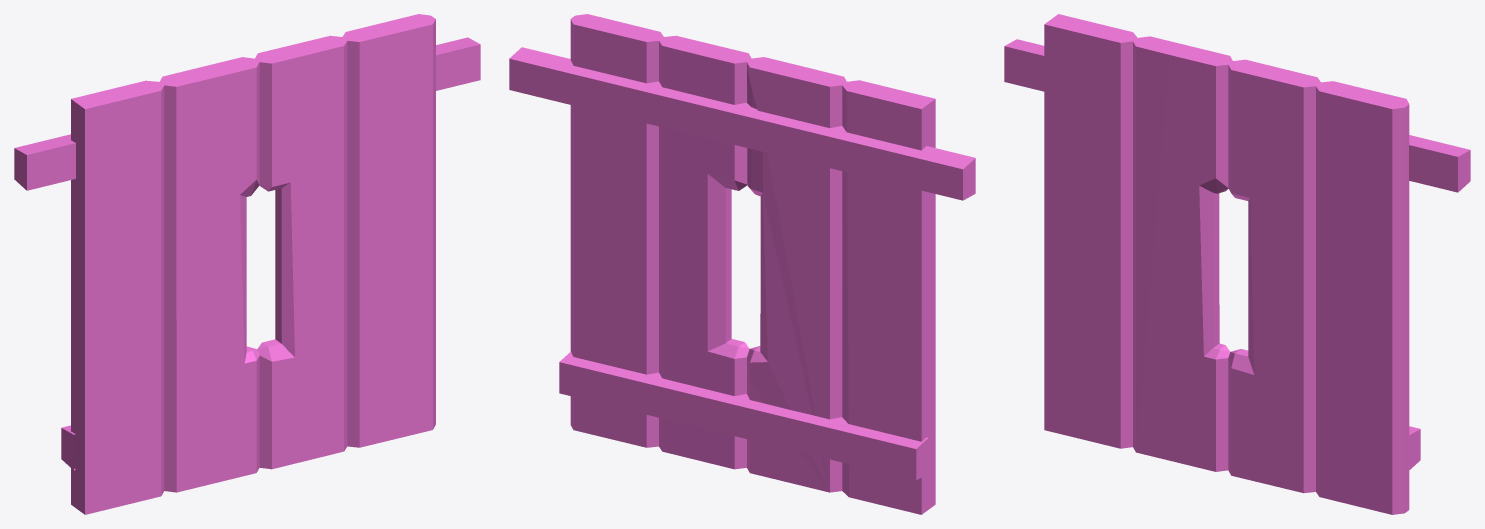
Rendered from SM_Battlement_Window_Fantasy.fbx.
3 views of the same model, side by side, from view 1: azimuth 30°, elevation 25°; view 2: azimuth 150°, elevation 25°; view 3: azimuth 330°, elevation 25° (orthographic).
Parts seen in each view (by area): view 1: SM_Battlement_Window_Fantasy; view 2: SM_Battlement_Window_Fantasy; view 3: SM_Battlement_Window_Fantasy.
Part boxes in pixels (x1,y1,x2,y2): SM_Battlement_Window_Fantasy: (14, 14, 480, 514); SM_Battlement_Window_Fantasy: (509, 14, 975, 514); SM_Battlement_Window_Fantasy: (1004, 14, 1470, 514).
Bounding box in the file's own units: 0.9241 × 0.7895 × 0.0767.
